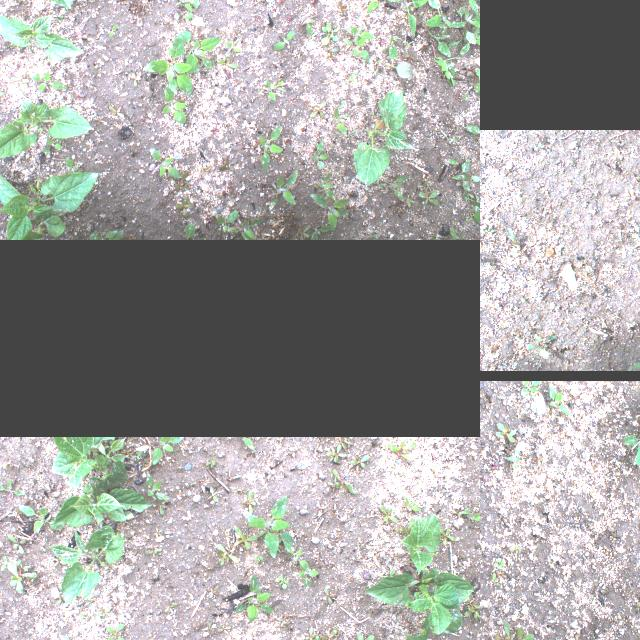crop: (362, 566, 473, 634), (0, 167, 102, 239), (52, 460, 152, 528), (48, 524, 126, 602), (356, 90, 418, 186), (0, 99, 97, 159), (52, 436, 128, 494), (0, 13, 89, 61), (402, 512, 441, 574), (617, 390, 640, 467)
weed: (142, 29, 222, 99), (242, 494, 294, 558), (310, 170, 354, 232), (233, 574, 274, 622), (215, 206, 267, 238), (377, 38, 411, 80), (256, 125, 286, 172), (150, 146, 188, 180), (270, 166, 300, 208), (399, 0, 426, 38), (8, 558, 38, 592), (544, 382, 574, 416), (455, 5, 480, 45), (421, 0, 453, 31), (342, 26, 372, 59), (162, 92, 190, 126), (496, 618, 538, 640), (30, 69, 68, 93), (150, 436, 182, 464), (524, 332, 558, 358), (19, 505, 53, 531), (453, 160, 480, 192), (492, 416, 518, 446), (436, 56, 458, 88), (427, 32, 453, 59), (388, 174, 412, 203), (144, 474, 170, 500), (37, 138, 65, 162), (286, 543, 310, 571), (387, 438, 417, 460), (235, 525, 262, 549), (331, 467, 355, 493), (261, 72, 283, 100), (503, 444, 525, 472), (270, 30, 300, 50), (298, 220, 330, 238), (332, 105, 348, 139), (310, 139, 328, 169), (97, 622, 126, 640), (516, 380, 542, 400), (217, 544, 240, 566), (465, 196, 480, 228), (488, 556, 508, 580), (466, 115, 480, 149), (326, 442, 348, 463), (174, 0, 199, 18), (88, 226, 125, 238), (220, 151, 240, 173), (308, 101, 328, 123), (420, 188, 442, 208), (298, 568, 320, 588), (371, 0, 401, 14), (320, 21, 338, 44), (0, 477, 22, 495), (8, 532, 26, 554), (457, 504, 480, 521), (464, 597, 480, 621), (453, 0, 480, 14), (378, 504, 399, 522), (213, 55, 239, 69), (351, 454, 371, 472), (532, 448, 552, 466), (128, 69, 144, 91), (506, 538, 524, 556), (226, 38, 246, 54), (302, 15, 318, 35), (244, 488, 256, 512), (596, 583, 614, 599), (10, 73, 30, 87), (108, 20, 122, 40), (326, 44, 342, 60), (304, 625, 321, 640), (404, 496, 422, 510), (328, 474, 342, 492), (471, 69, 480, 94), (346, 70, 362, 84), (324, 626, 340, 640), (145, 544, 163, 556), (182, 223, 196, 237), (338, 2, 352, 16), (108, 107, 124, 119), (278, 574, 290, 590), (323, 588, 335, 604), (354, 631, 373, 640), (217, 622, 231, 634), (488, 457, 500, 471), (208, 485, 218, 501), (156, 499, 166, 515), (165, 602, 178, 614), (458, 41, 469, 55), (633, 592, 640, 614), (201, 622, 213, 634), (243, 436, 254, 449), (96, 606, 110, 616), (206, 456, 217, 468), (1, 554, 8, 572), (131, 449, 143, 459), (336, 436, 346, 448), (210, 584, 218, 598), (475, 26, 480, 48), (307, 0, 320, 8), (344, 437, 354, 447), (252, 554, 264, 562), (78, 612, 90, 620), (0, 90, 4, 106), (154, 527, 162, 535), (36, 465, 40, 473), (42, 546, 46, 552), (536, 144, 540, 148)
